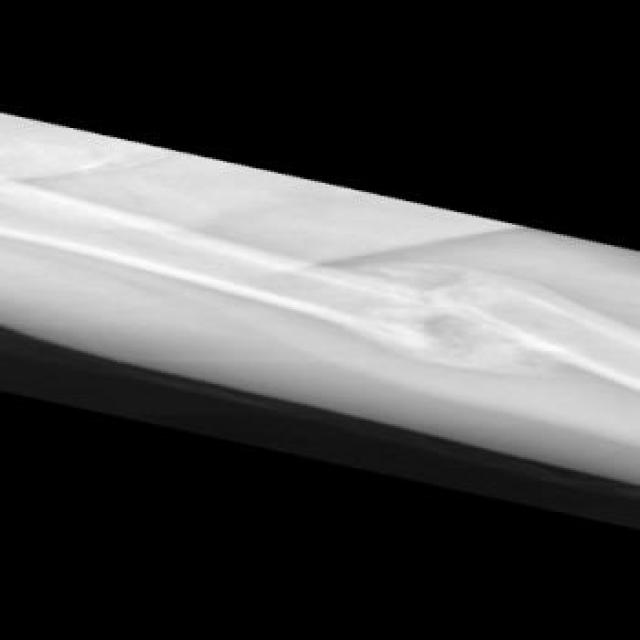Fracture: (372, 264, 548, 401)
